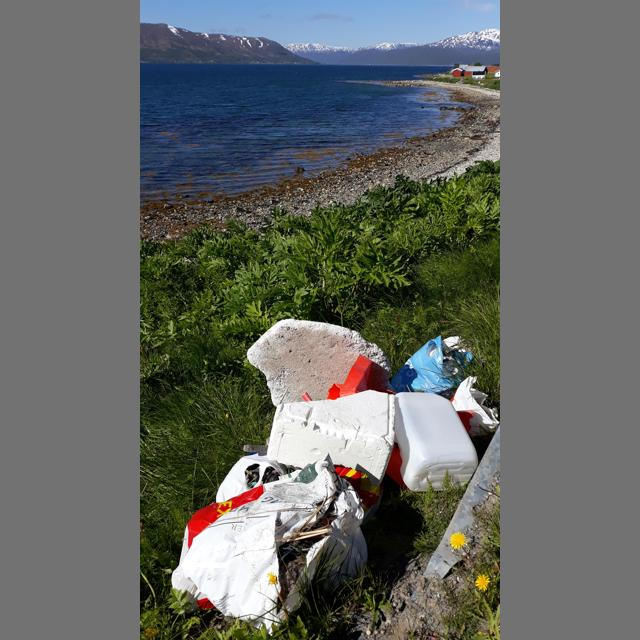litter: (182, 453, 367, 636), (172, 478, 294, 614), (247, 319, 397, 407), (267, 390, 395, 487), (395, 392, 478, 492), (390, 335, 472, 399), (216, 452, 289, 502), (450, 376, 499, 438), (334, 464, 383, 524), (327, 354, 372, 400), (442, 336, 462, 377)
